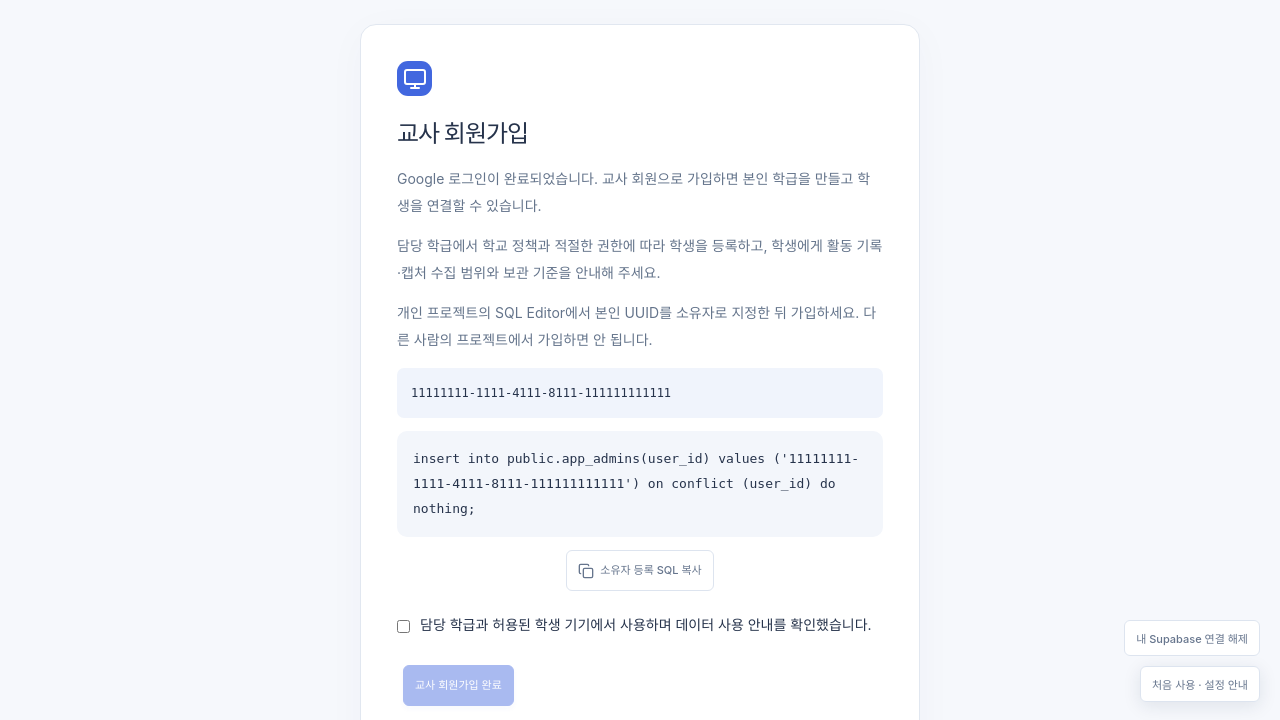
운영 화면의 로그인·관리자 경계와 실제 데이터 흐름 › 안내 확인 후 가입 RPC를 실행하면 자기 빈 대시보드에 진입한다
The image size is (1280, 720).
Click the checkbox. click: {"x": 404, "y": 627}
box: [397,619,410,634]
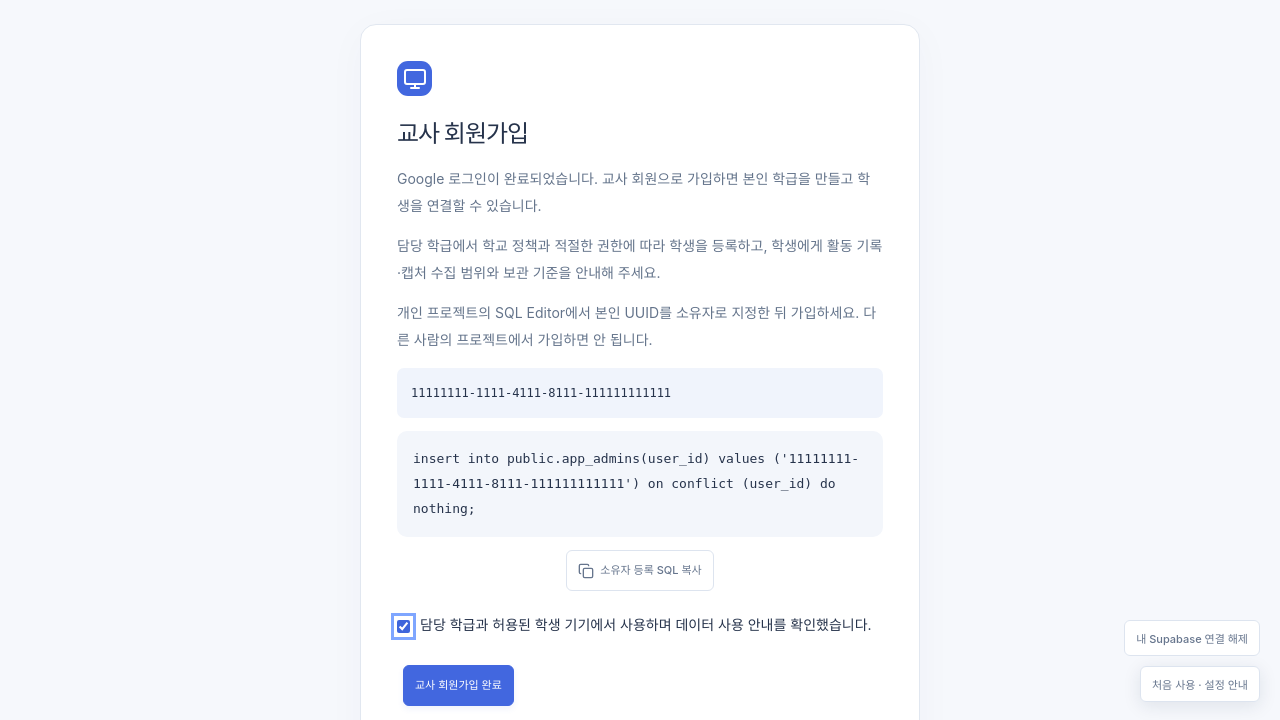
Click the button "교사 회원가입 완료". click: {"x": 458, "y": 686}
box: [403,665,514,706]
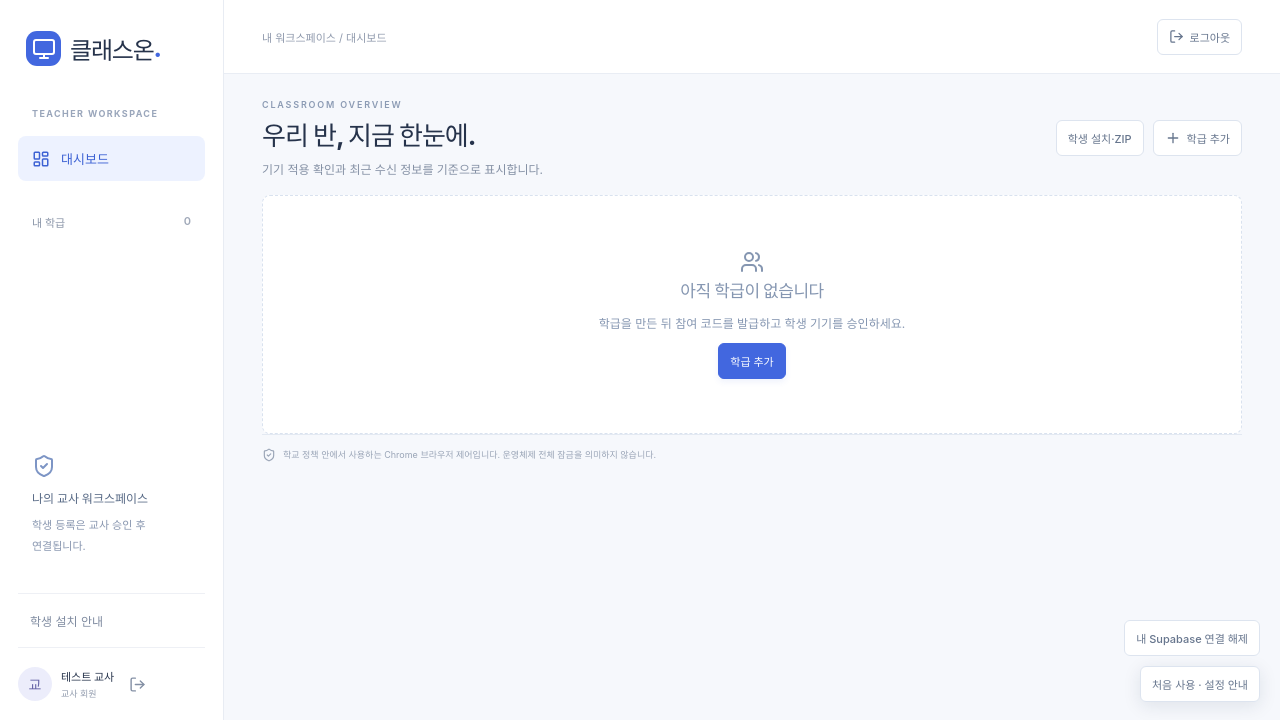
expect the heading "아직 학급이 없습니다" is shown: met, box [680,281,824,301]
